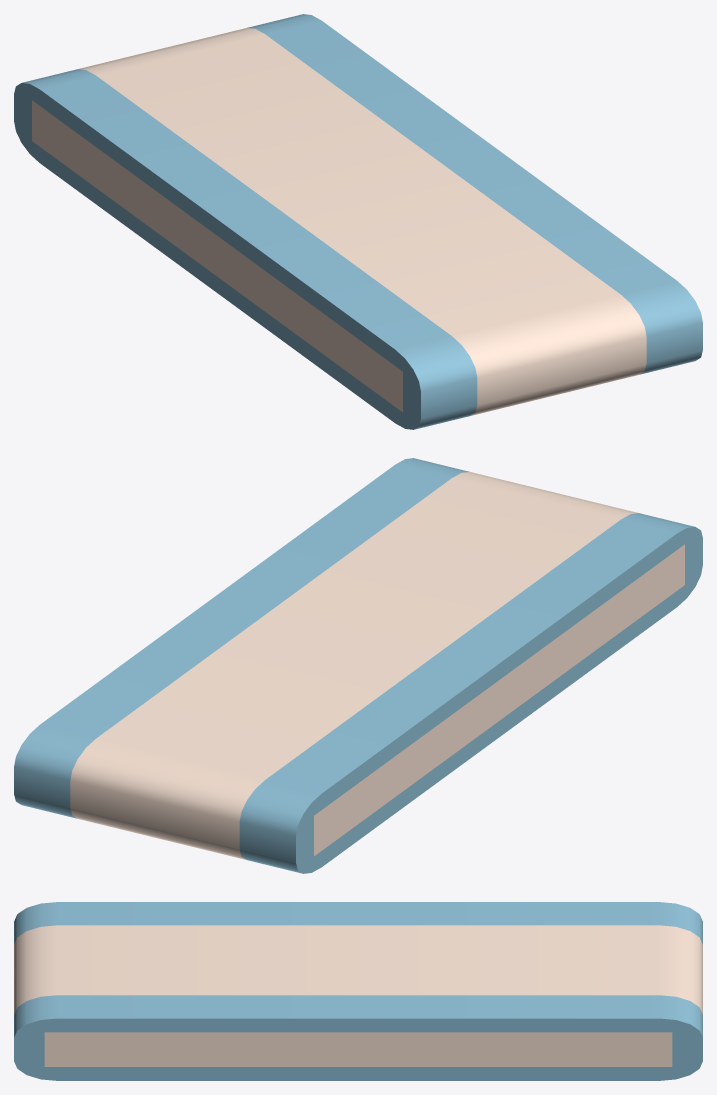
Rendered from Props_Conveyor_Blue_02.fbx.
The picture shows the model from 3 angles, top to bottom: view 1: azimuth 30°, elevation 25°; view 2: azimuth 150°, elevation 25°; view 3: azimuth 270°, elevation 25°; orthographic projection. The views are drawn at different scales.
Parts seen in each view (by area): view 1: Props_Conveyor_Blue_02; view 2: Props_Conveyor_Blue_02; view 3: Props_Conveyor_Blue_02.
Part boxes in pixels (x1,y1,x2,y2): Props_Conveyor_Blue_02: (14,14,702,429); Props_Conveyor_Blue_02: (14,458,702,873); Props_Conveyor_Blue_02: (14,902,702,1080).
Size of the model in its own units: 80 by 20 by 200.
